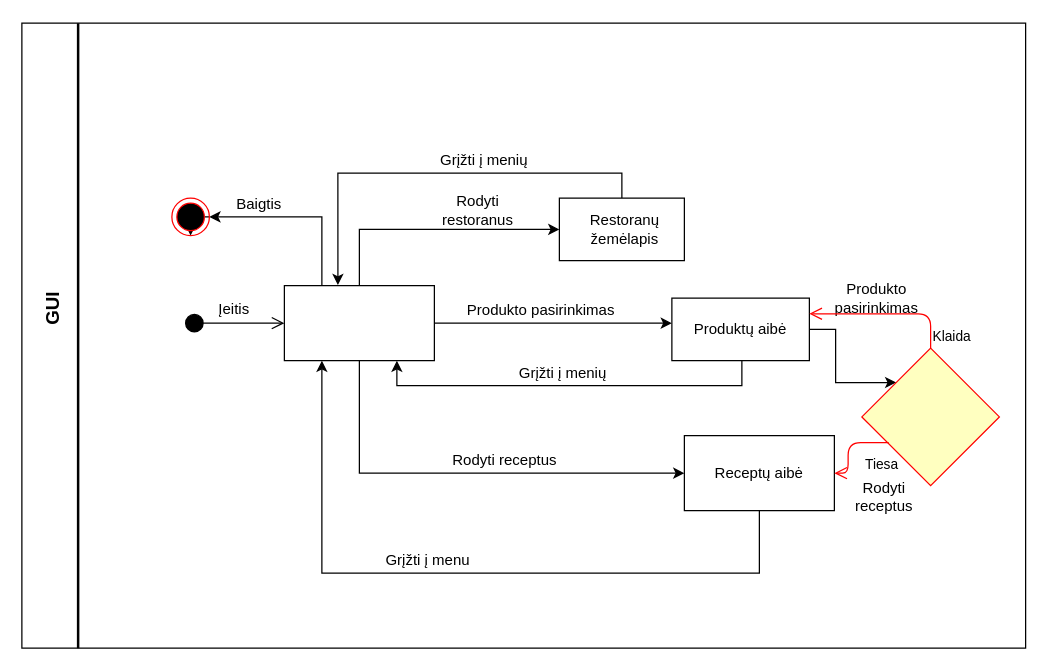
Image size: 1048x670. Some labels were removed from this diagram. The centre of each missing label's shape, as x and y in pixels:
"Pagrindinis meniu" goes at (x=358, y=322).
"Produktų kiekis > 0" goes at (x=930, y=416).
